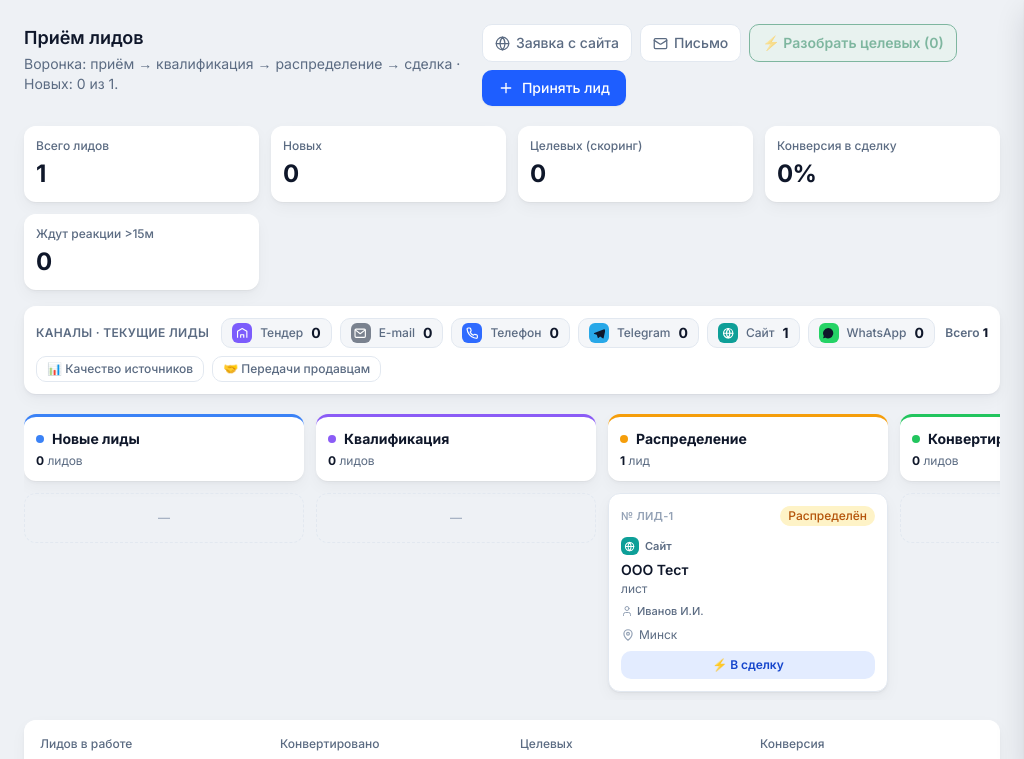
Test case: LeadsWorkspace › сбой конвертации показывает ошибку, а не молчит (лид не считается обработанным)
Click the text "№ ЛИД-1": (647, 516) [621, 508, 674, 524]
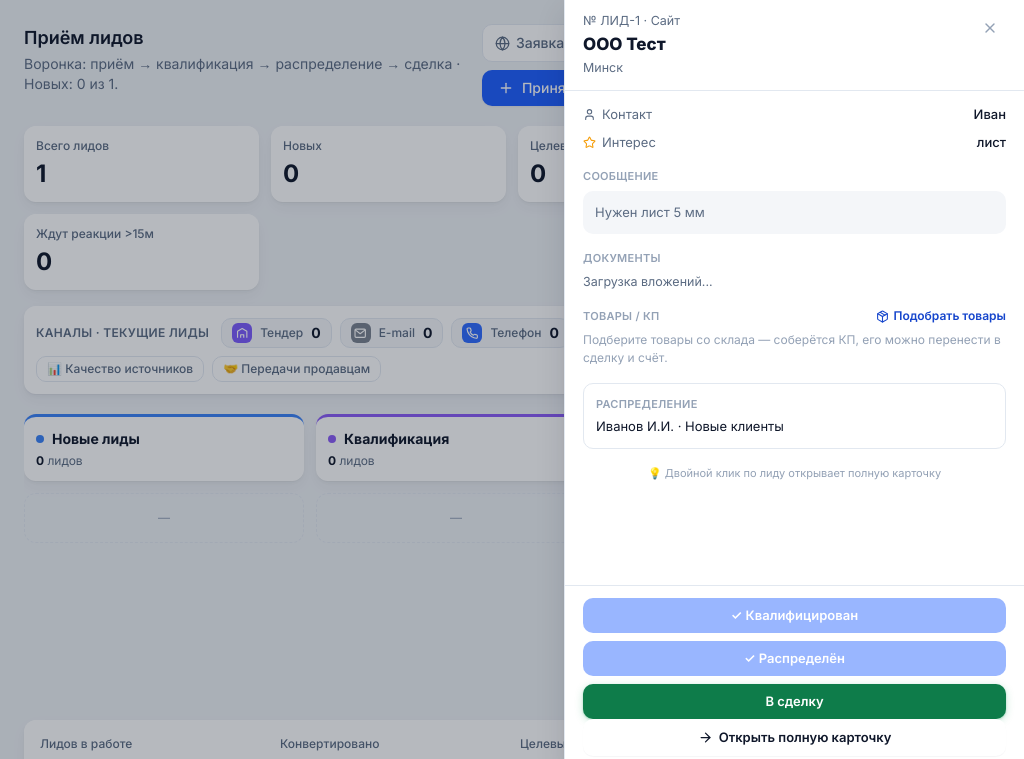
Click the button "В сделку": (794, 702) [583, 684, 1006, 719]
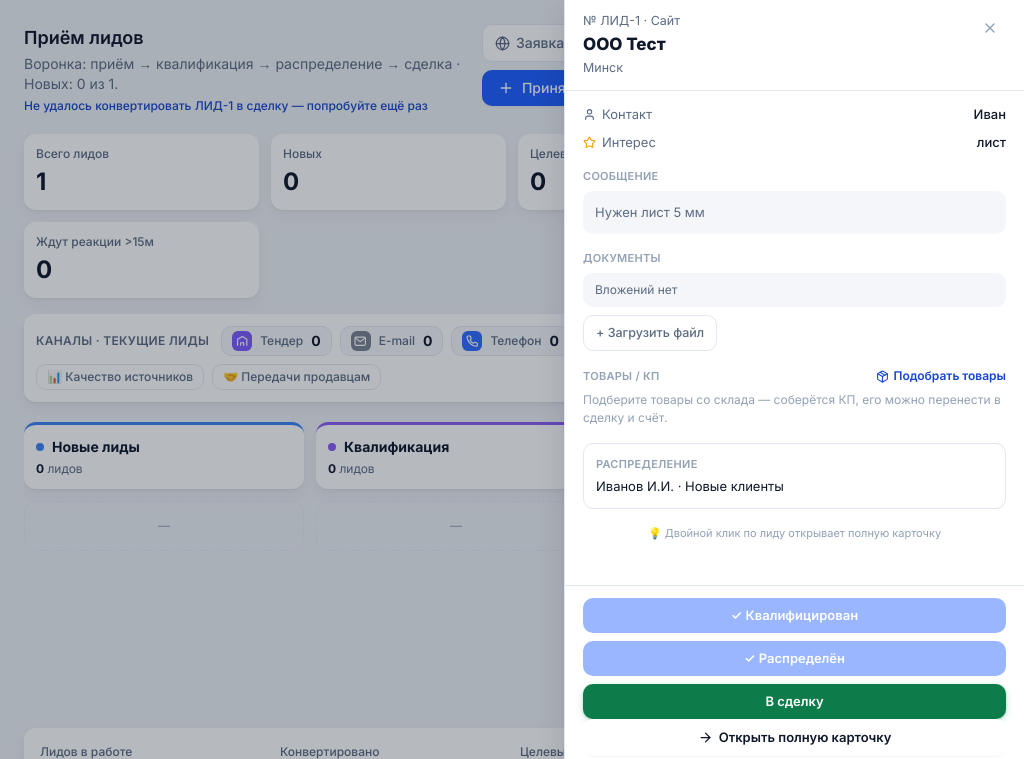
Result: the text "Не удалось конвертировать" is shown at [24, 98, 428, 113]
